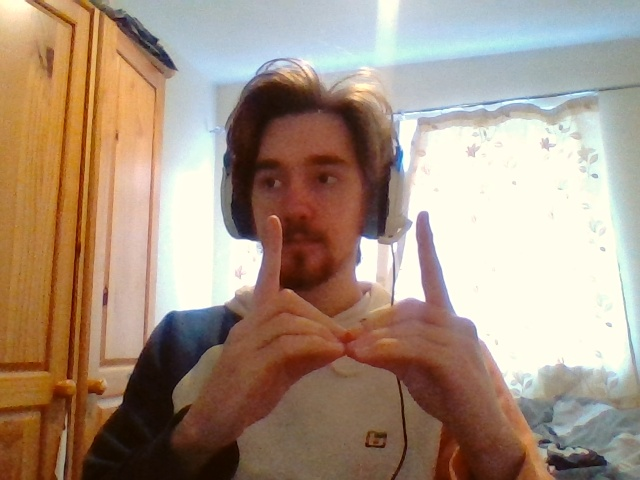meet: (227, 211, 481, 392)
